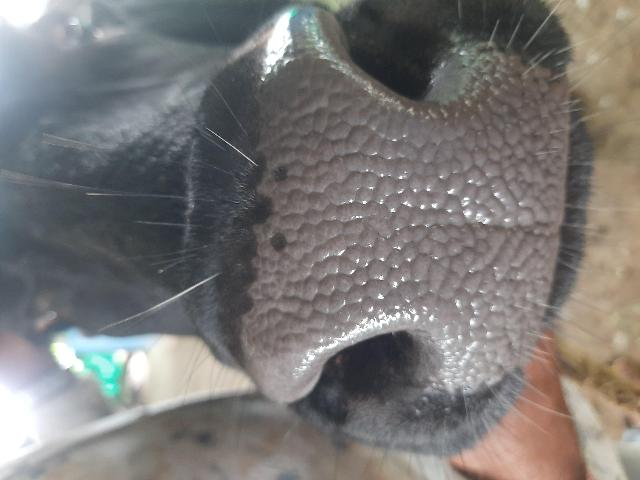Muzzle: (254, 48, 568, 400)
